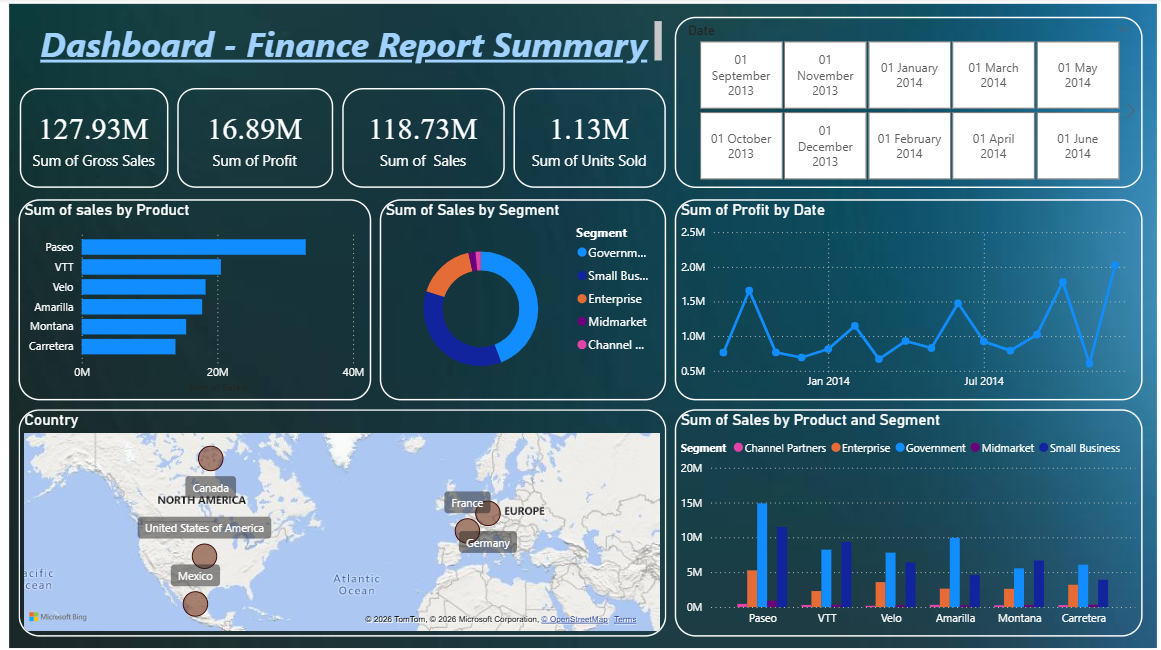

What the dashboard file says about the page in this screenshot:
{"tool":"powerbi","page":{"name":"Page 1","canvas":[1280,720],"ordinal":0},"visuals":[{"type":"image","box":[10,0,1270,720],"z":0},{"type":"card","fields":{"Values":["Sum(Financial.Gross Sales)"]},"box":[26.1,98.8,163.3,109.8],"z":1000},{"type":"textbox","box":[35.7,20.6,699.8,56.3],"z":2000},{"type":"card","fields":{"Values":["Sum(Financial. Sales)"]},"box":[380.1,98.8,178.4,109.8],"z":3000},{"type":"card","fields":{"Values":["Sum(Financial.Profit)"]},"box":[199,98.8,171.5,109.8],"z":4000},{"type":"card","fields":{"Values":["Sum(Financial.Units Sold)"]},"box":[568.1,98.8,167.4,109.8],"z":5000},{"type":"barChart","title":"Sum of sales by Product","fields":{"Category":["Financial.Product"],"Y":["Sum(Financial. Sales)"]},"box":[24.7,220.9,387,220.9],"z":6000},{"type":"lineChart","fields":{"Y":["Sum(Financial.Profit)"],"Category":["Financial.Date"]},"box":[745.1,220.9,513.2,220.9],"z":7000},{"type":"clusteredColumnChart","fields":{"Category":["Financial.Product"],"Y":["Sum(Financial. Sales)"],"Series":["Financial.Segment"]},"box":[745.1,451.5,513.2,249.7],"z":8000},{"type":"donutChart","fields":{"Y":["Sum(Financial. Sales)"],"Category":["Financial.Segment"]},"box":[421.3,220.9,314.2,220.9],"z":9000},{"type":"map","fields":{"Category":["Financial.Country"]},"box":[24.7,451.5,710.8,249.7],"z":10000},{"type":"slicer","fields":{"Values":["Financial.Date"]},"box":[745.1,20.6,513.2,188],"z":11000}]}

Visuals, with their boxes in screenshot pixels (x1, y1, x2, y2), scaled from the page's 1280x720 canvas onto the 1161x650 screenshot:
image: bbox=[9, 0, 1160, 649]
card - Sum(Financial.Gross Sales): bbox=[24, 89, 172, 188]
textbox: bbox=[32, 19, 667, 69]
card - Sum(Financial. Sales): bbox=[345, 89, 507, 188]
card - Sum(Financial.Profit): bbox=[180, 89, 336, 188]
card - Sum(Financial.Units Sold): bbox=[515, 89, 667, 188]
"Sum of sales by Product" barChart: bbox=[22, 199, 373, 399]
lineChart - Sum(Financial.Profit) x Financial.Date: bbox=[676, 199, 1141, 399]
clusteredColumnChart - Financial.Product x Sum(Financial. Sales): bbox=[676, 408, 1141, 633]
donutChart - Sum(Financial. Sales) x Financial.Segment: bbox=[382, 199, 667, 399]
map - Financial.Country: bbox=[22, 408, 667, 633]
slicer - Financial.Date: bbox=[676, 19, 1141, 188]
